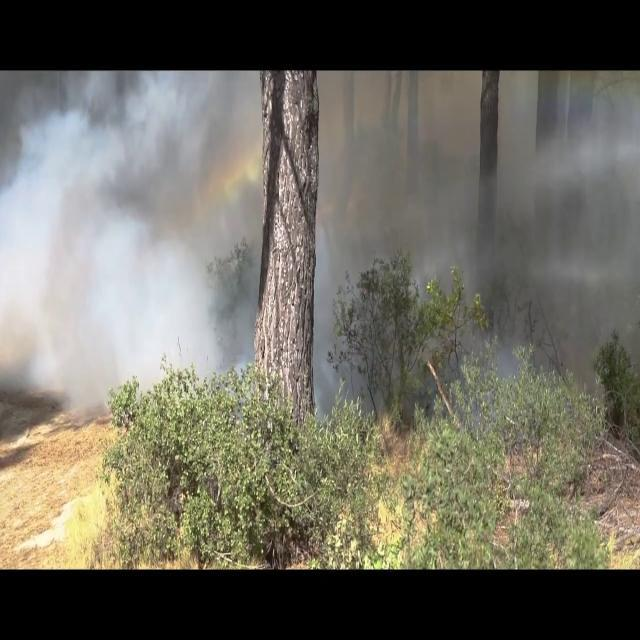Smoke: (320, 70, 640, 390), (0, 84, 262, 396)
